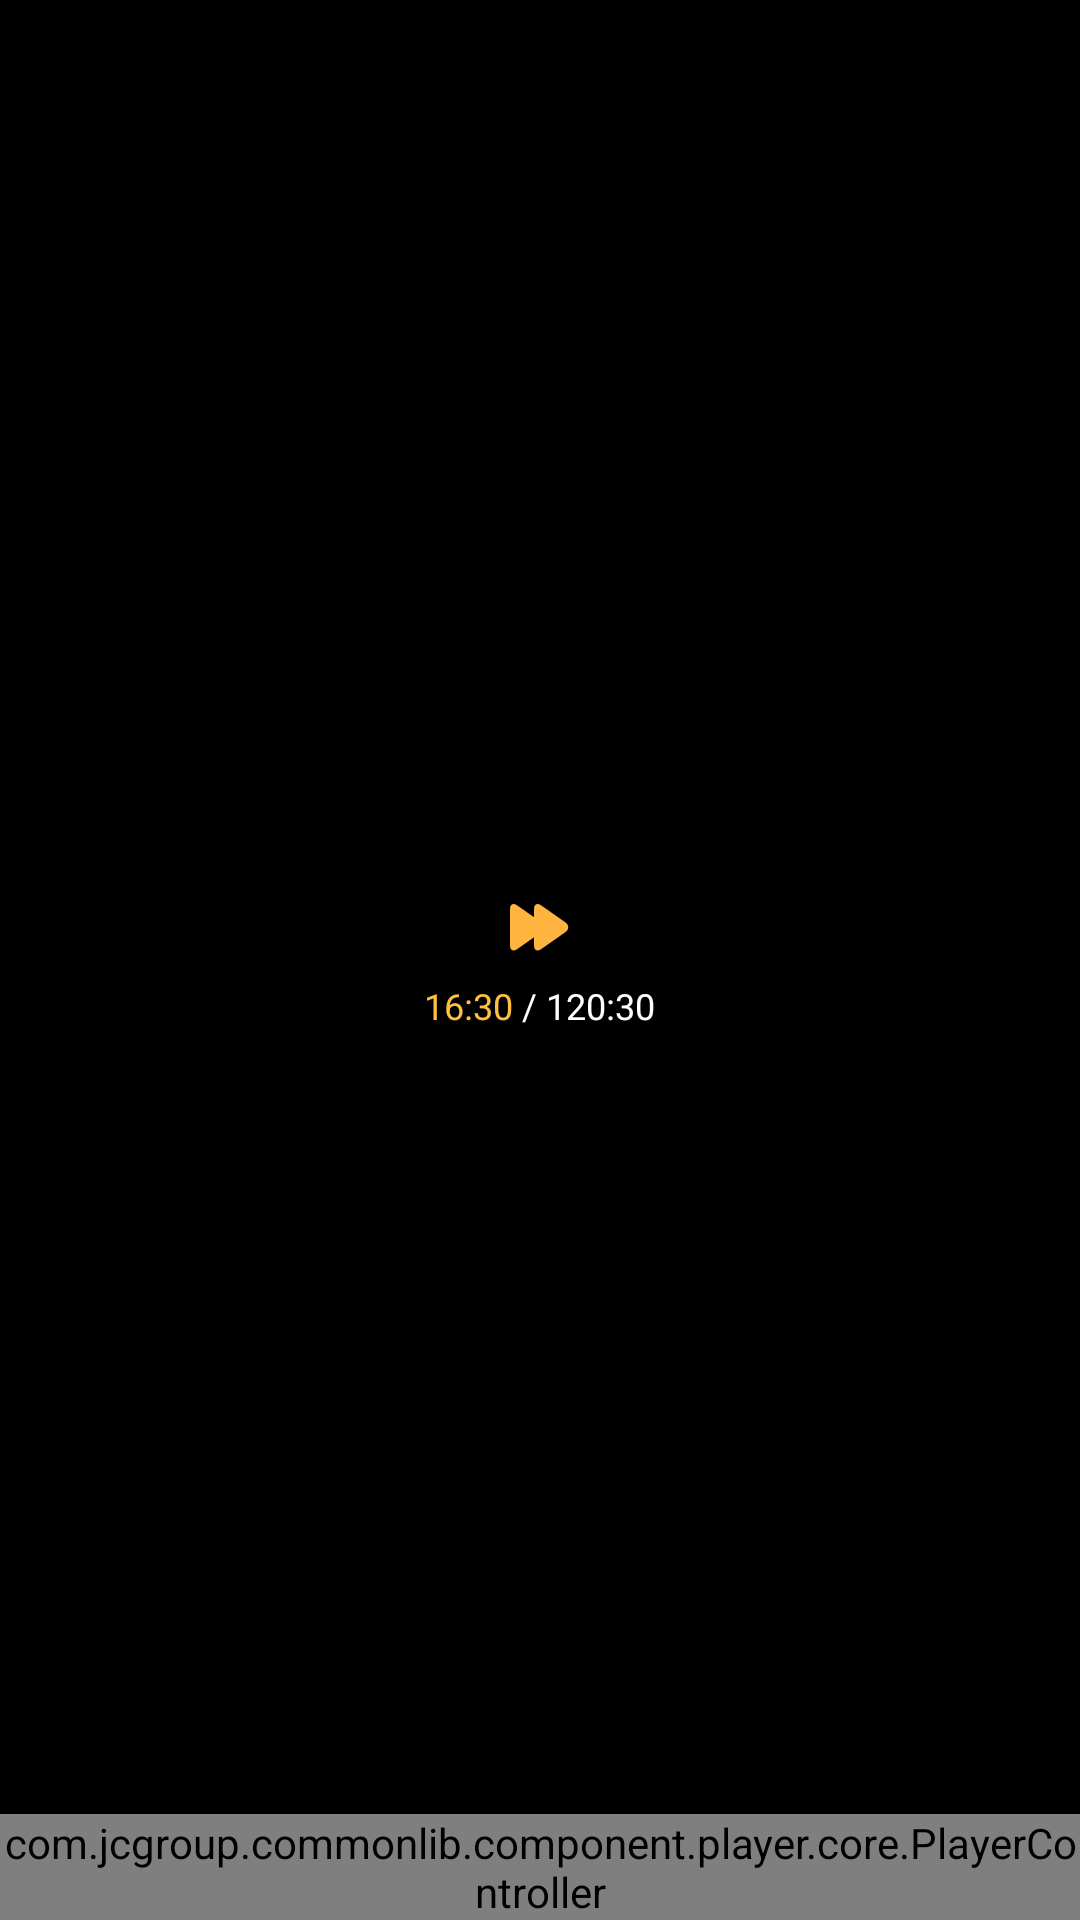

Point at icon controls on the screen. Image size 1080 × 1920, points as [x,y].
video fast forward: [539,927]
